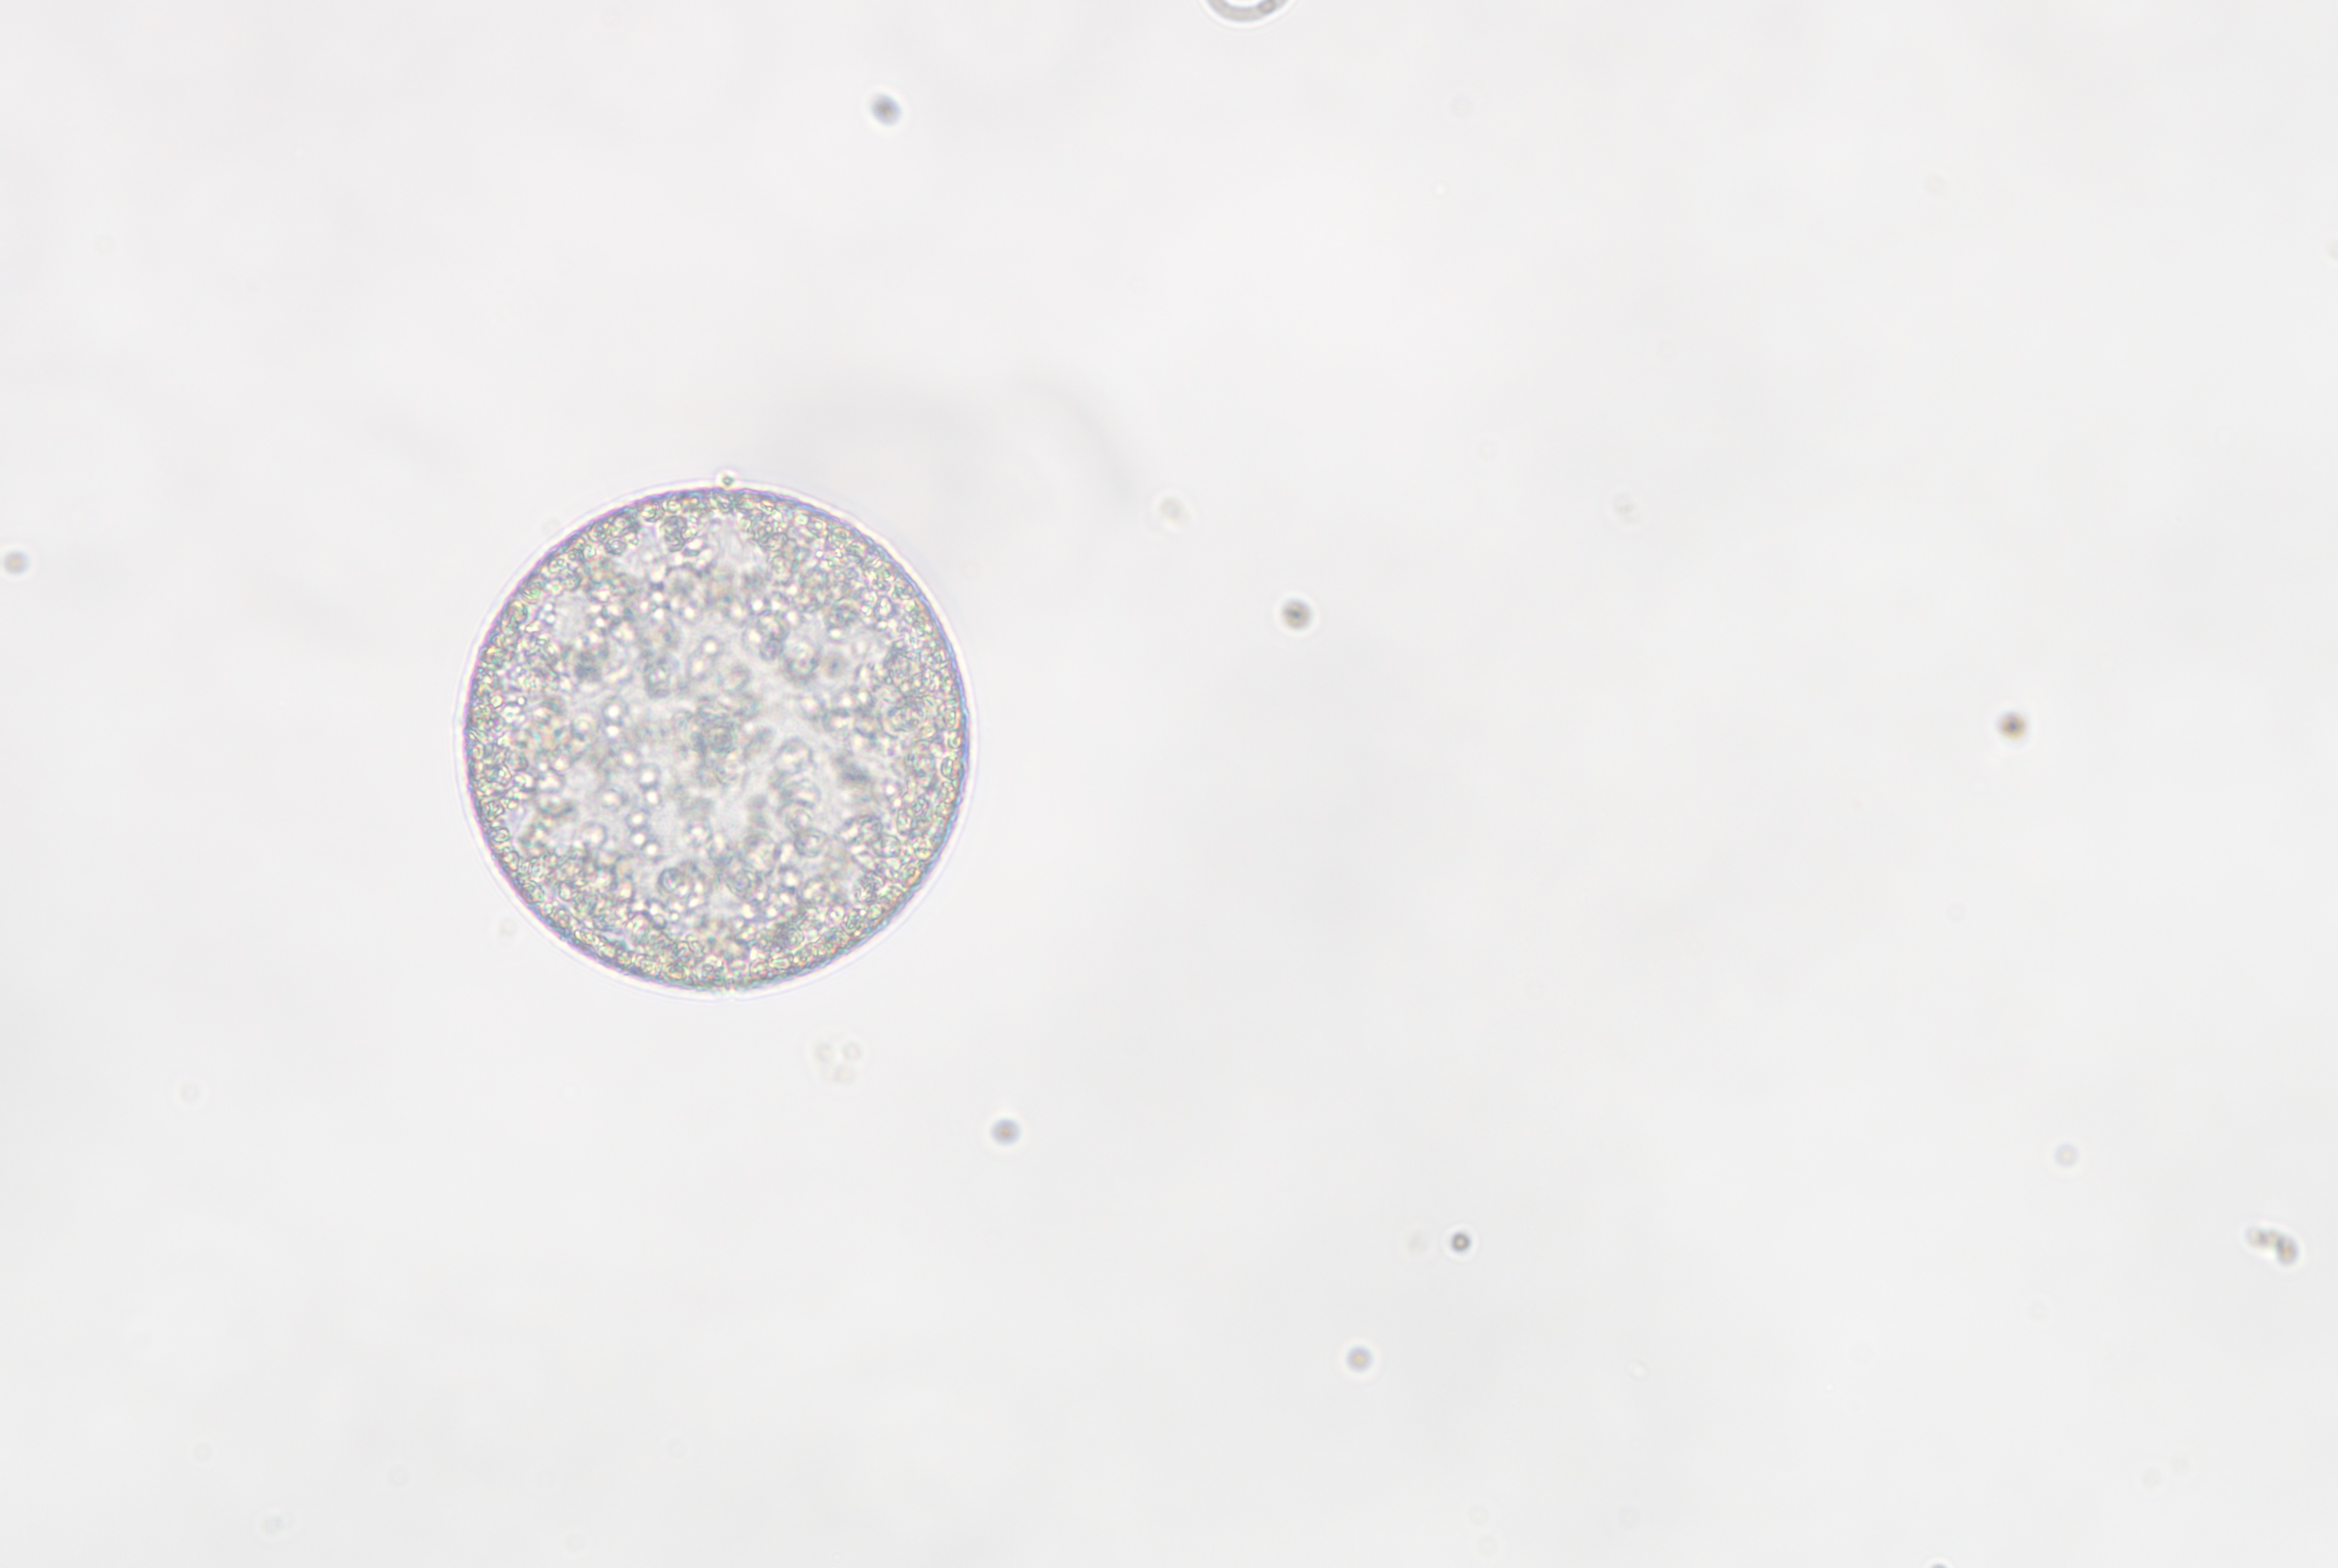coscinodiscus: (458, 481, 973, 990)
